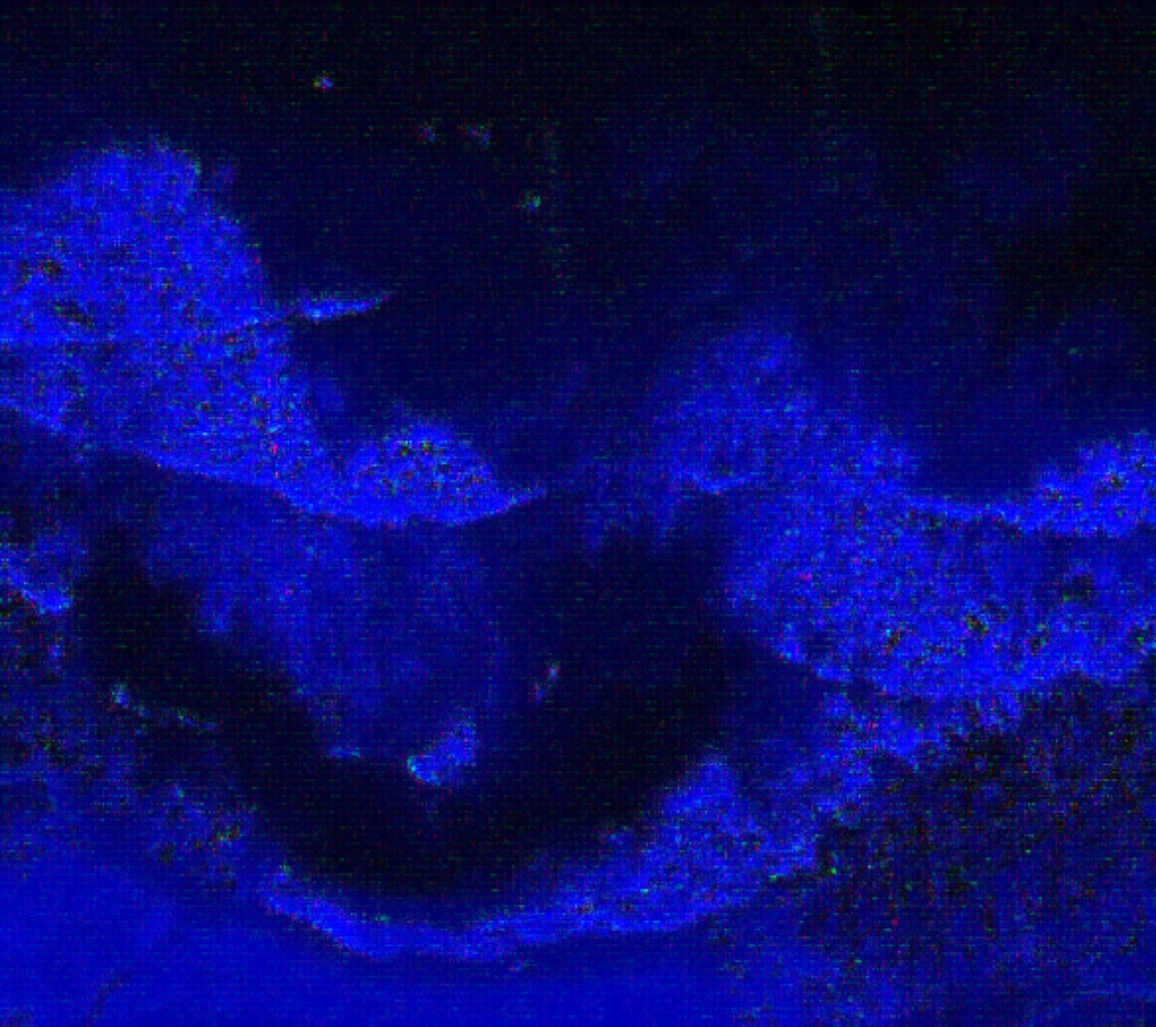rip_current: (391, 247, 834, 791)
